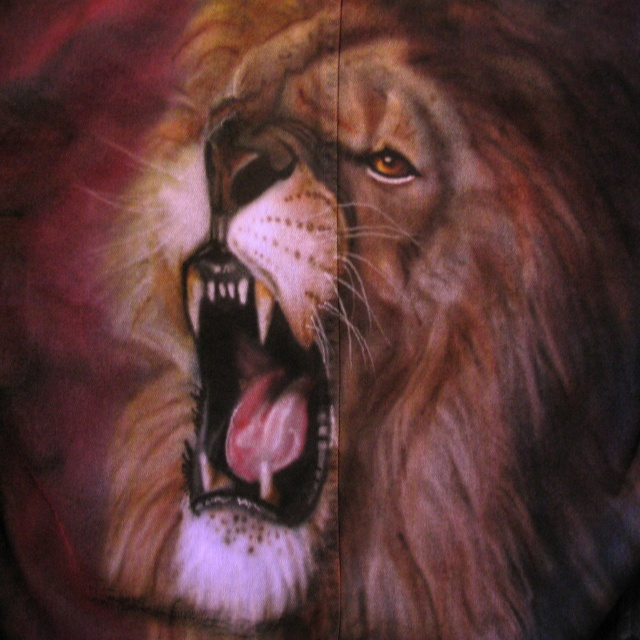Lion: (71, 0, 640, 640)
